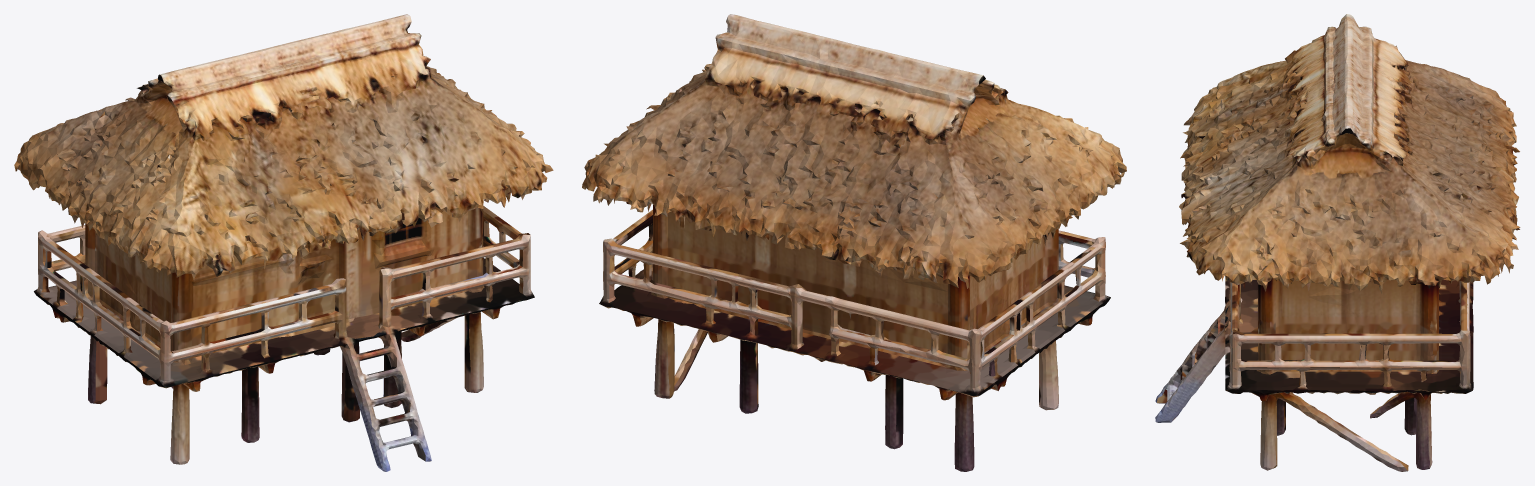
Rendered from mdl_stilt_house_001.glb.
3 renders of one model, left to right at view 1: azimuth 30°, elevation 25°; view 2: azimuth 150°, elevation 25°; view 3: azimuth 270°, elevation 25°, orthographic. The views are drawn at different scales.
Parts seen in each view (by area): view 1: tmpbcq2m2gj.ply; view 2: tmpbcq2m2gj.ply; view 3: tmpbcq2m2gj.ply.
Boxes of the visible parts, left/top/right/bottom form: tmpbcq2m2gj.ply: left=14, top=14, right=553, bottom=471; tmpbcq2m2gj.ply: left=582, top=14, right=1126, bottom=471; tmpbcq2m2gj.ply: left=1155, top=14, right=1520, bottom=471.
Size of the model in its own units: 0.9785 by 0.8029 by 0.7988.
1 material, 1 textured.
